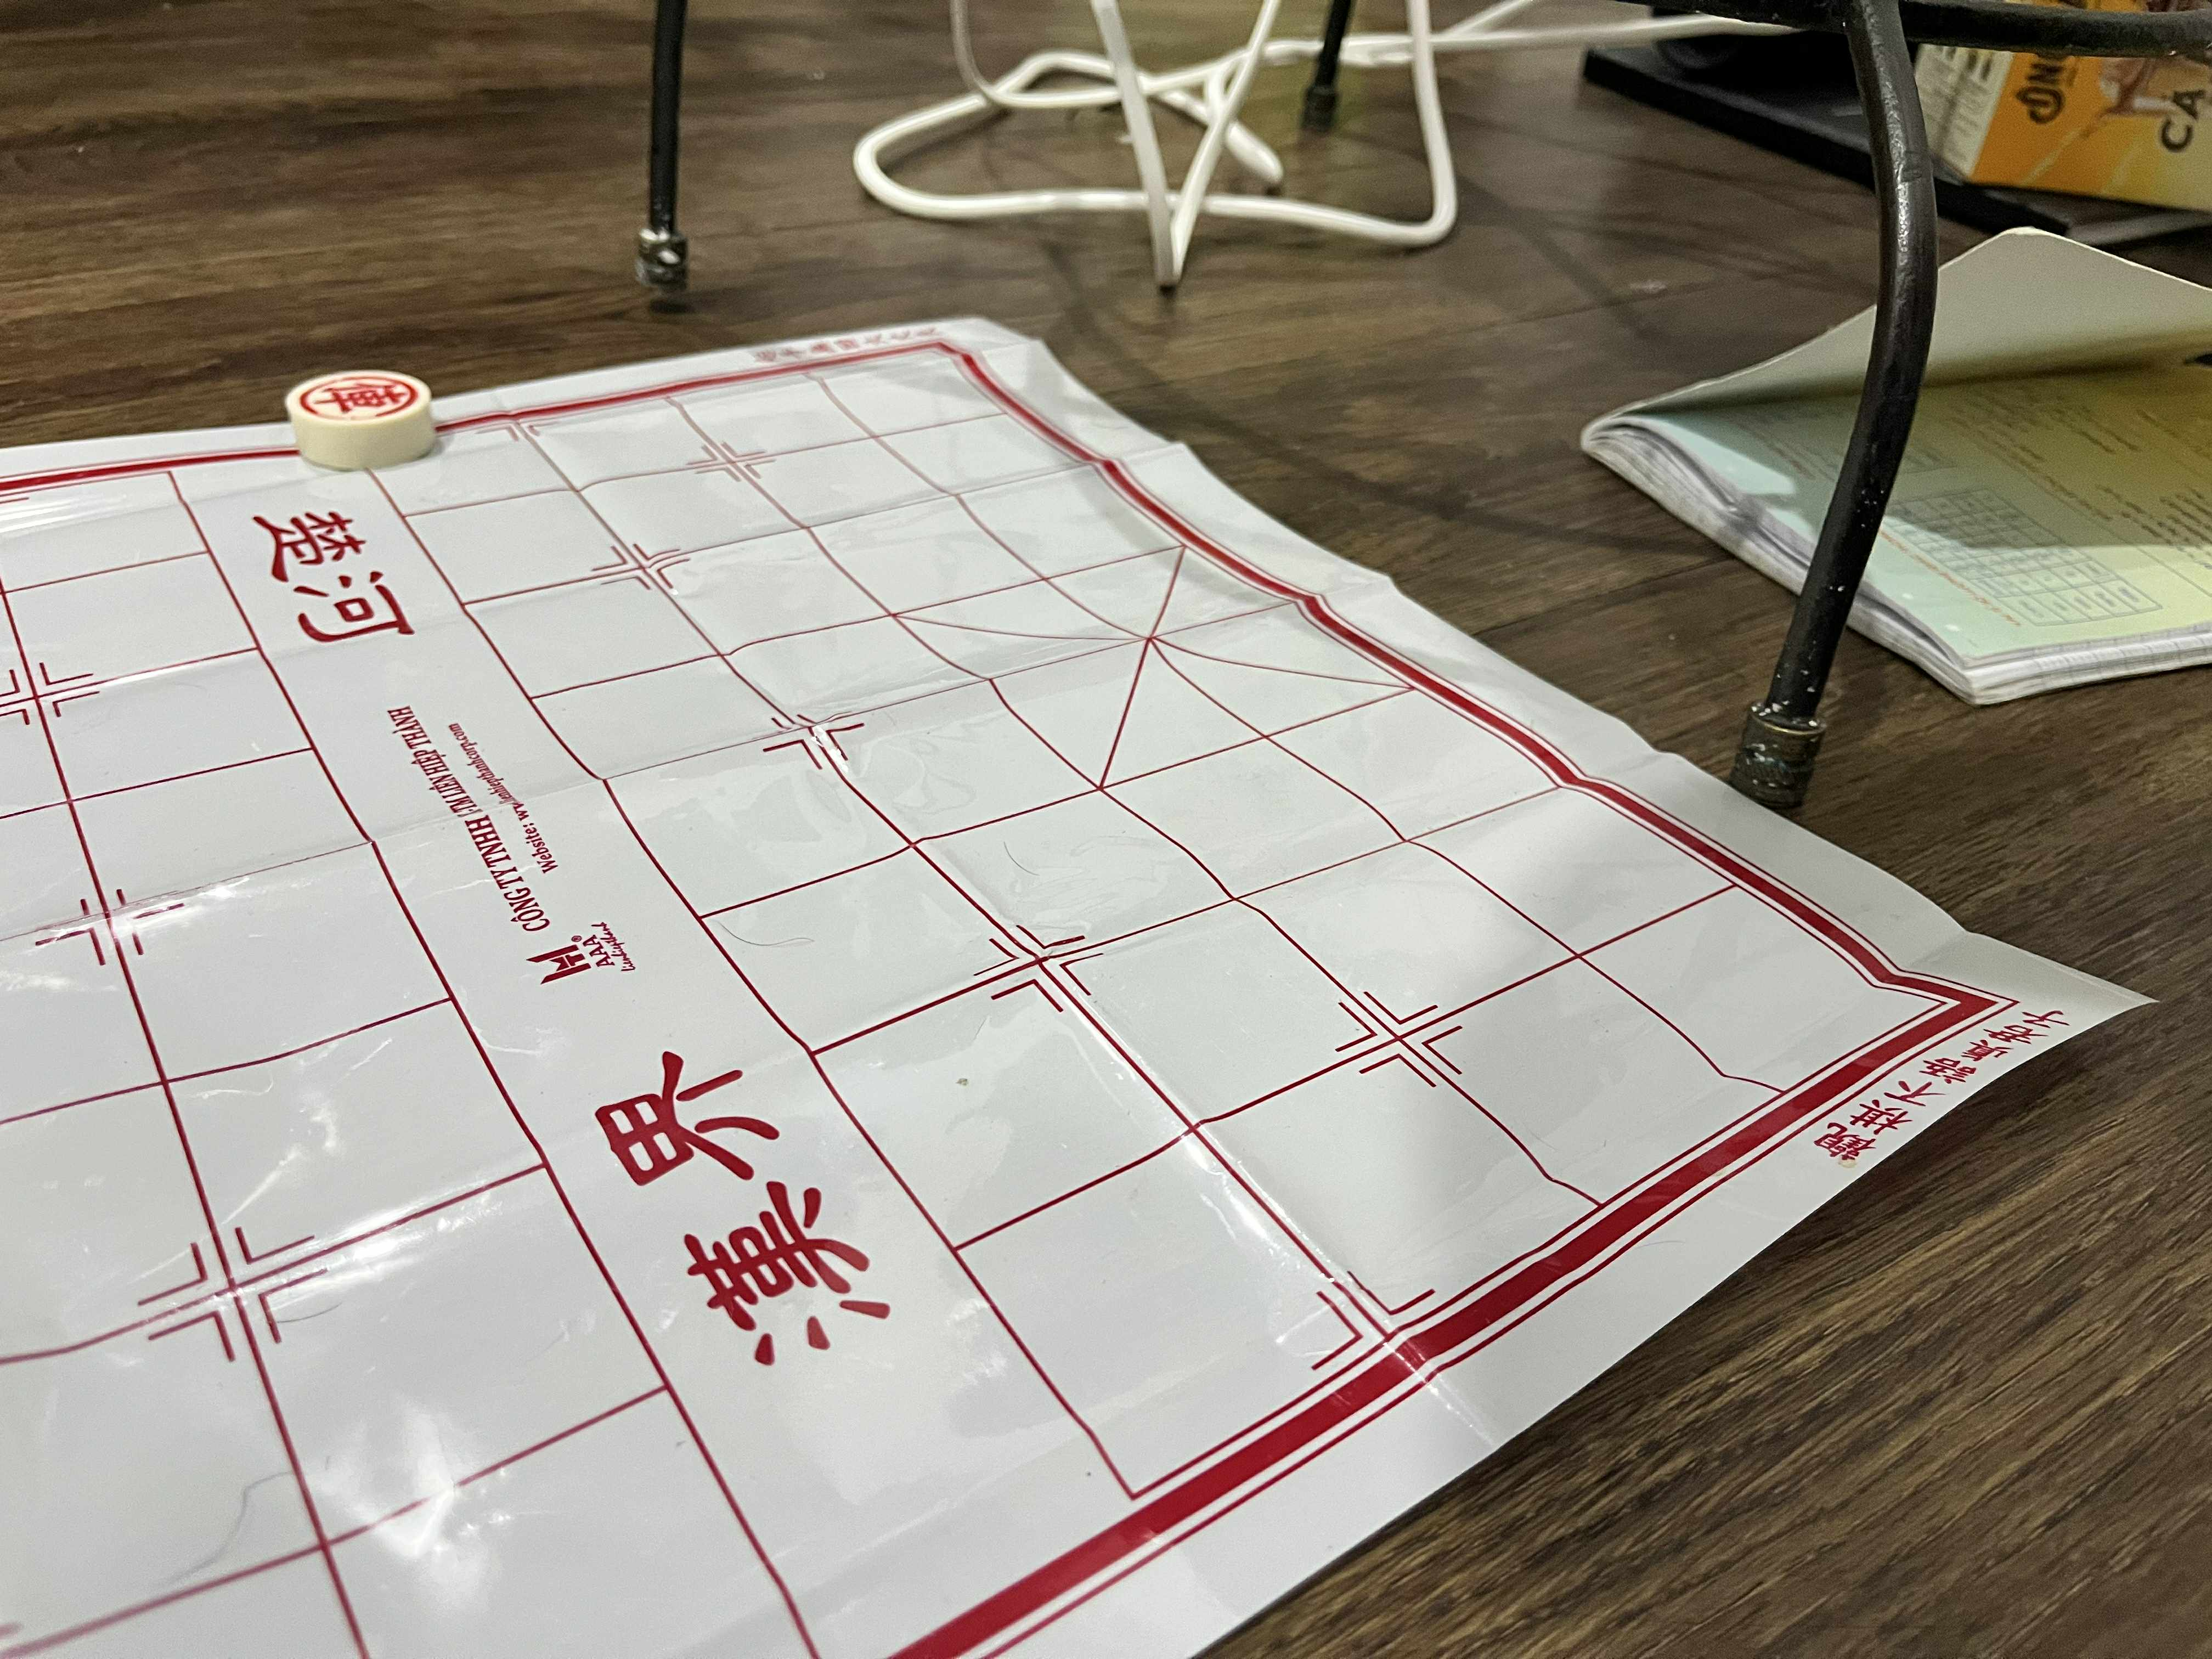red-chariot: (284, 368, 430, 430)
